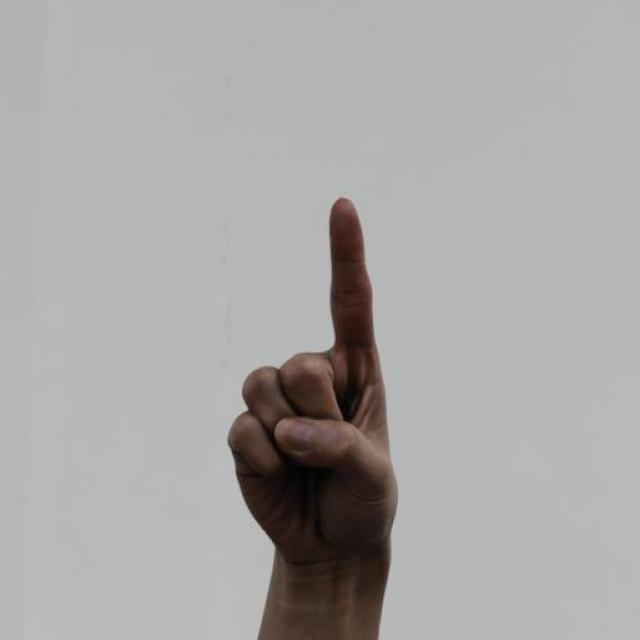Z: (225, 192, 401, 570)
